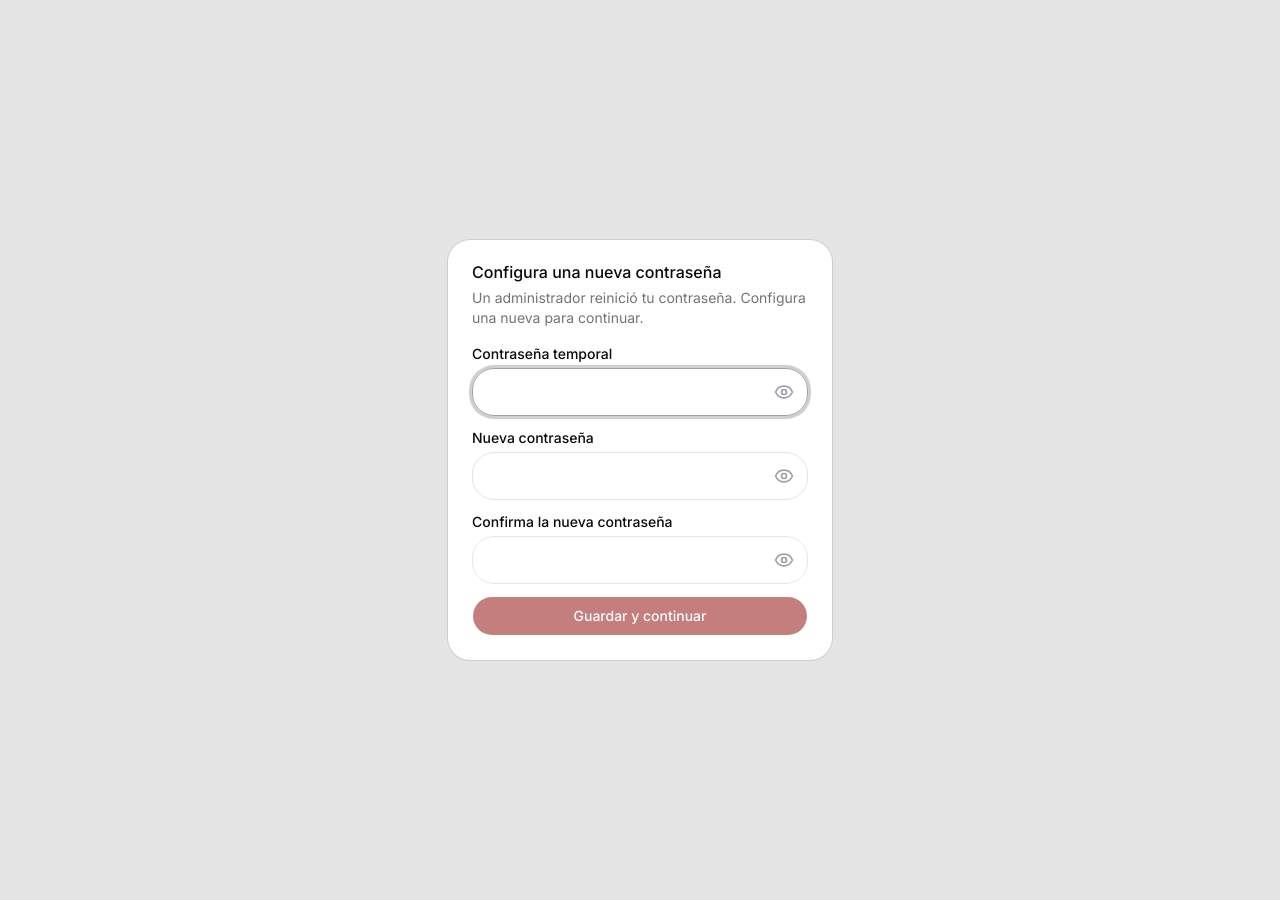
Test case: ForcePasswordChangeModal › shows the server error message when the current password is wrong
Type "wrong" into the password field labelled "Contraseña temporal" at (640, 392), box [472, 368, 808, 416]
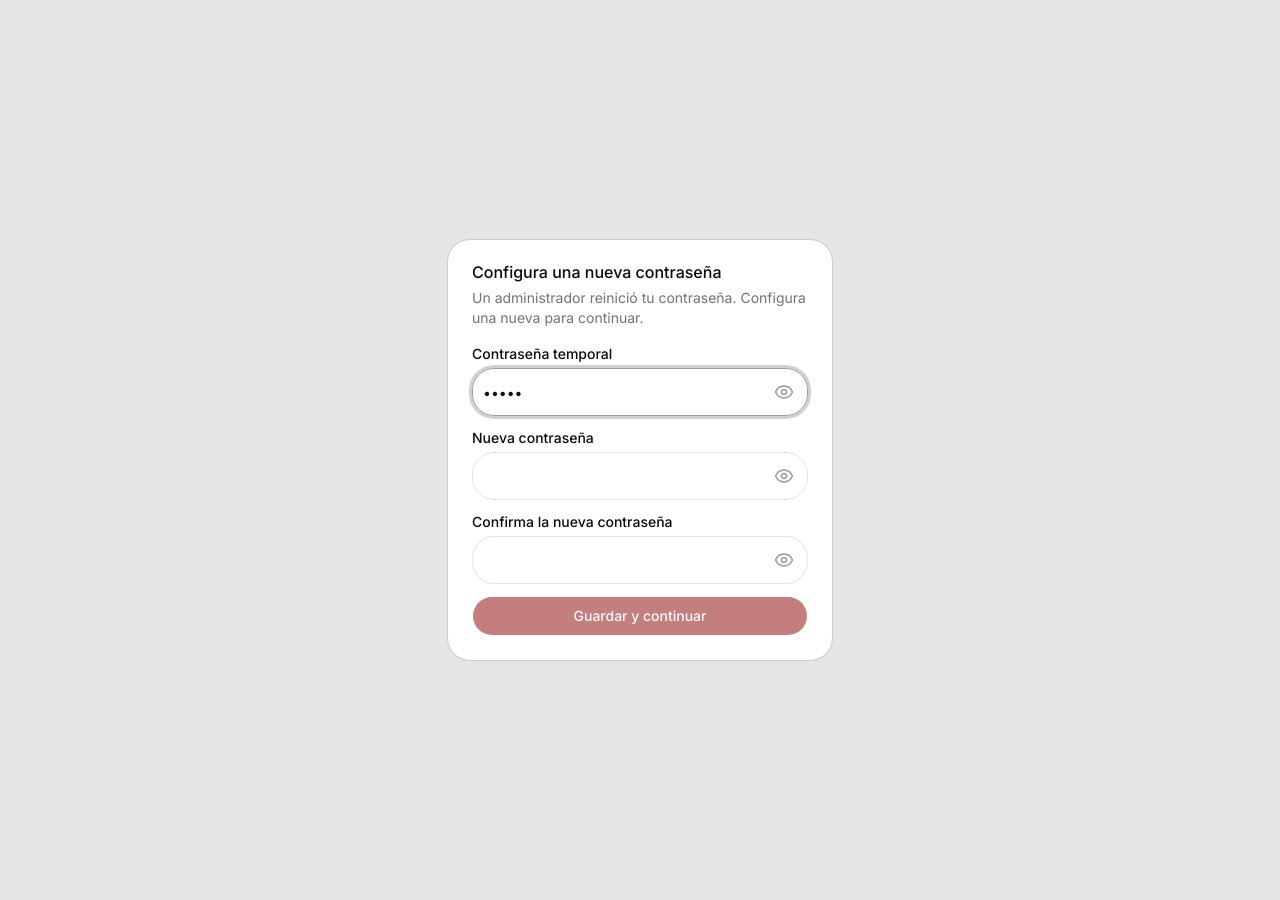
Type "NewSecret1!" into the password field labelled "Nueva contraseña" at (640, 476), box [472, 452, 808, 500]
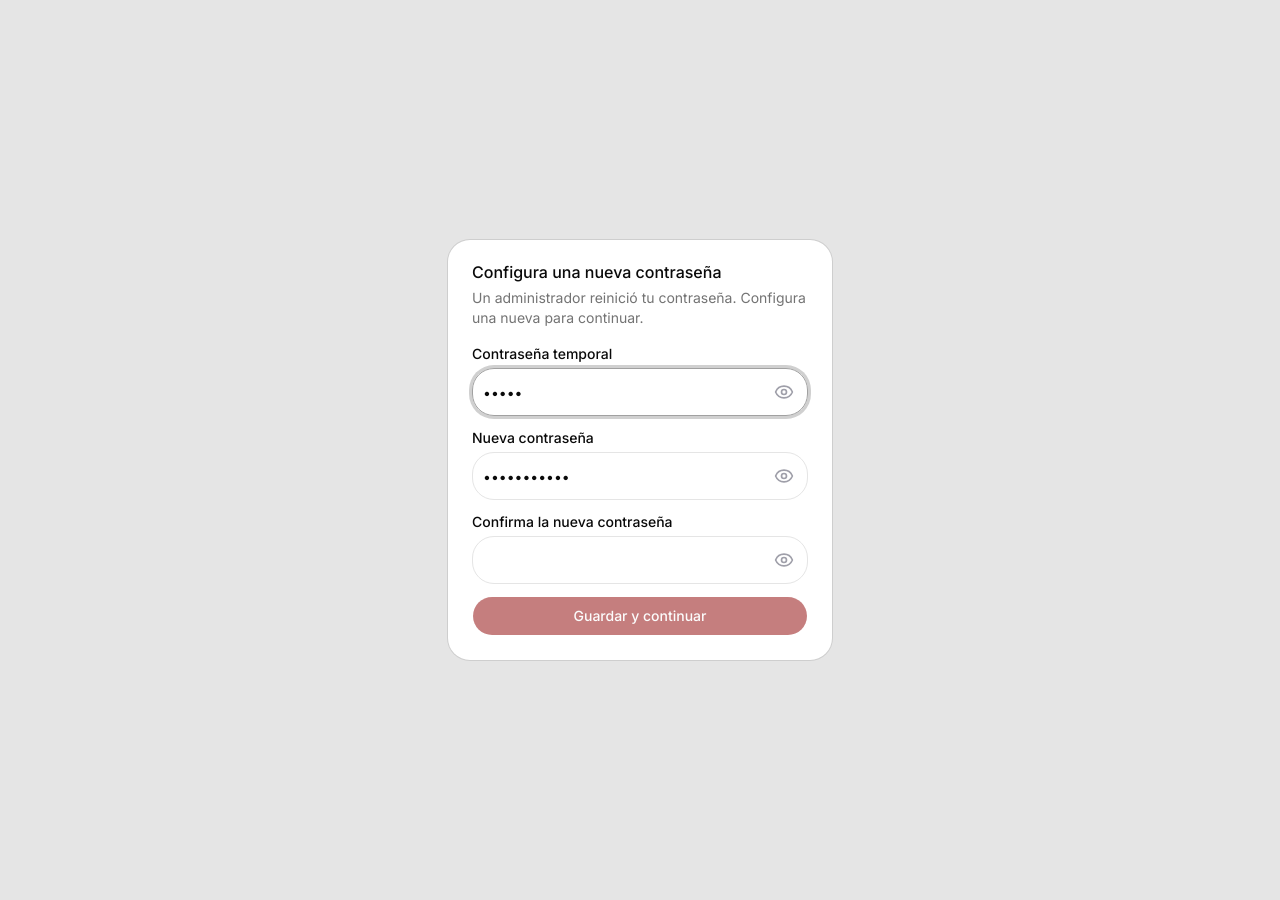
Type "NewSecret1!" into the password field labelled "Confirma la nueva contraseña" at (640, 560), box [472, 536, 808, 584]
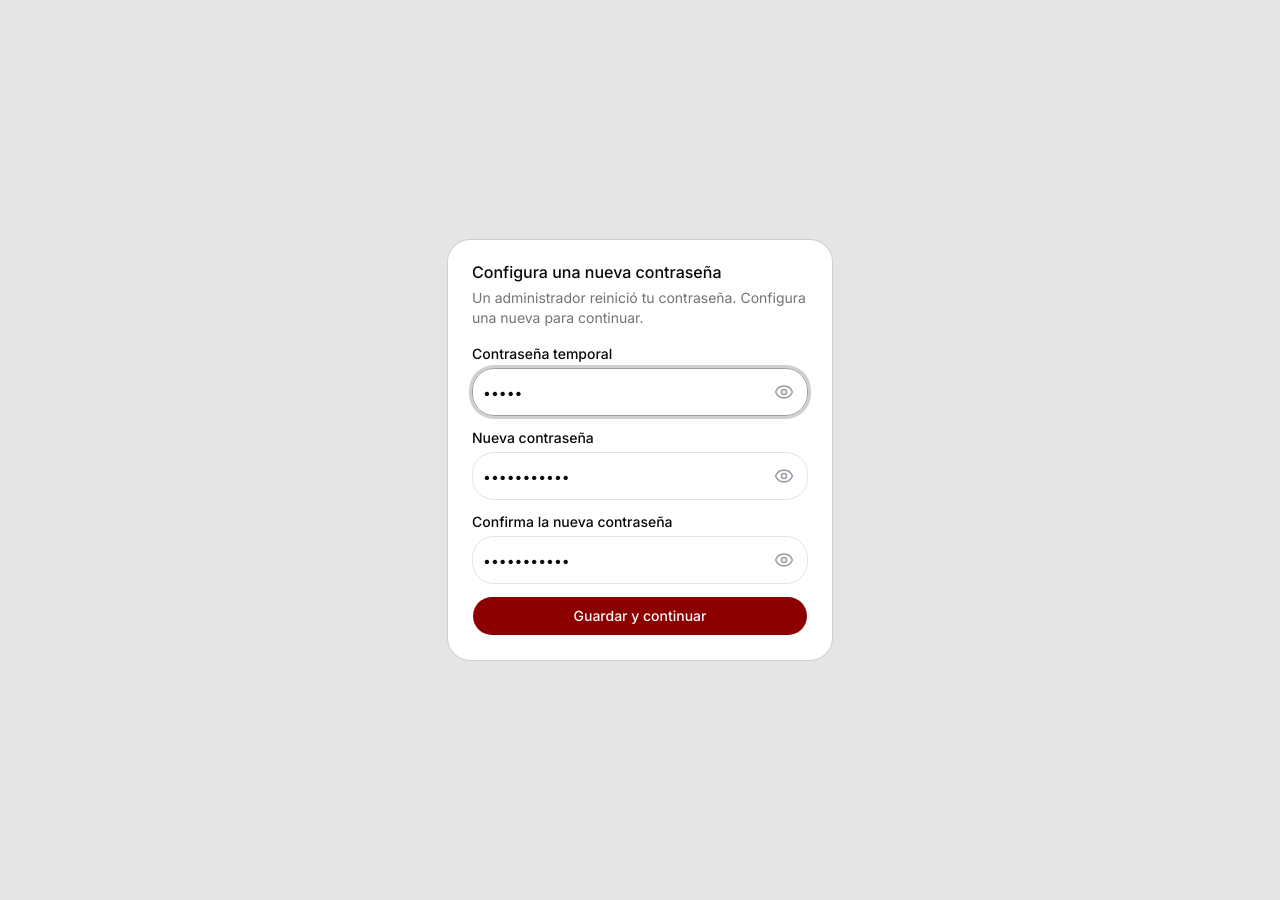
Click the button "Guardar y continuar" at (640, 616), box [472, 596, 808, 636]
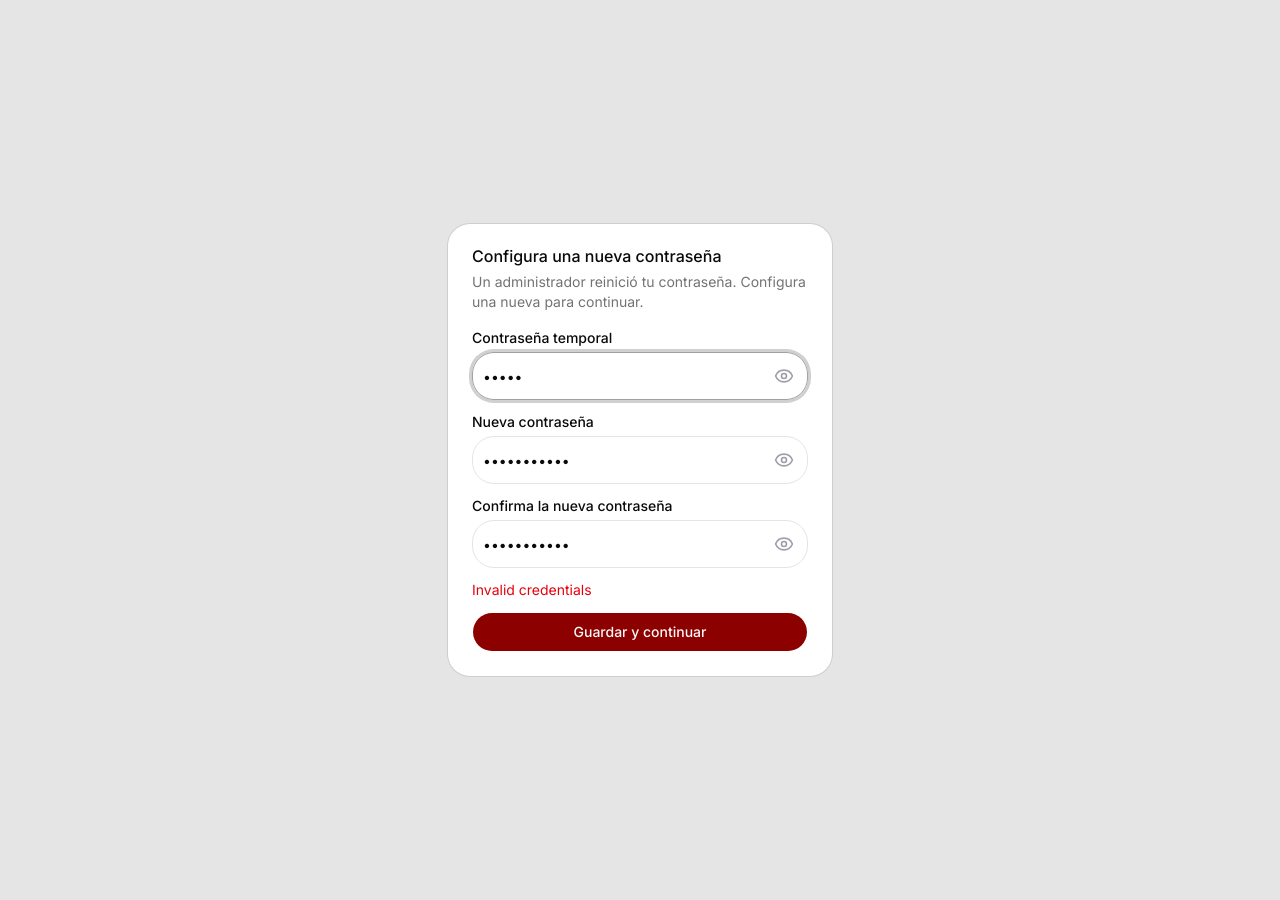
Expected: the text "Invalid credentials" is shown, [472, 581, 592, 598]
